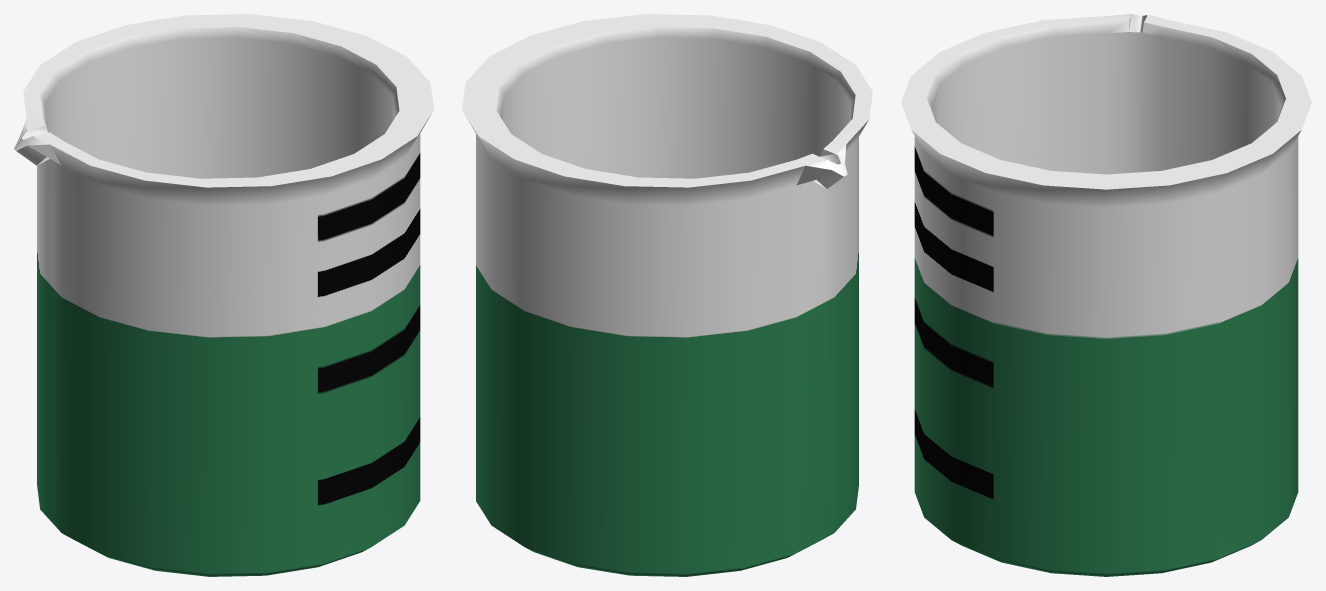
File: beaker.fbx
3 renders of one model, left to right at view 1: azimuth 30°, elevation 25°; view 2: azimuth 150°, elevation 25°; view 3: azimuth 270°, elevation 25°, orthographic.
Visible parts, largest first — view 1: pasted__polySurface7; view 2: pasted__polySurface7; view 3: pasted__polySurface7.
Boxes of the visible parts, x1=… form: pasted__polySurface7: x1=14, y1=14, x2=433, y2=576; pasted__polySurface7: x1=462, y1=14, x2=872, y2=576; pasted__polySurface7: x1=901, y1=14, x2=1311, y2=576.
Size of the model in its own units: 0.6211 by 0.6355 by 0.5923.
Materials: 1 (1 with a texture image).
